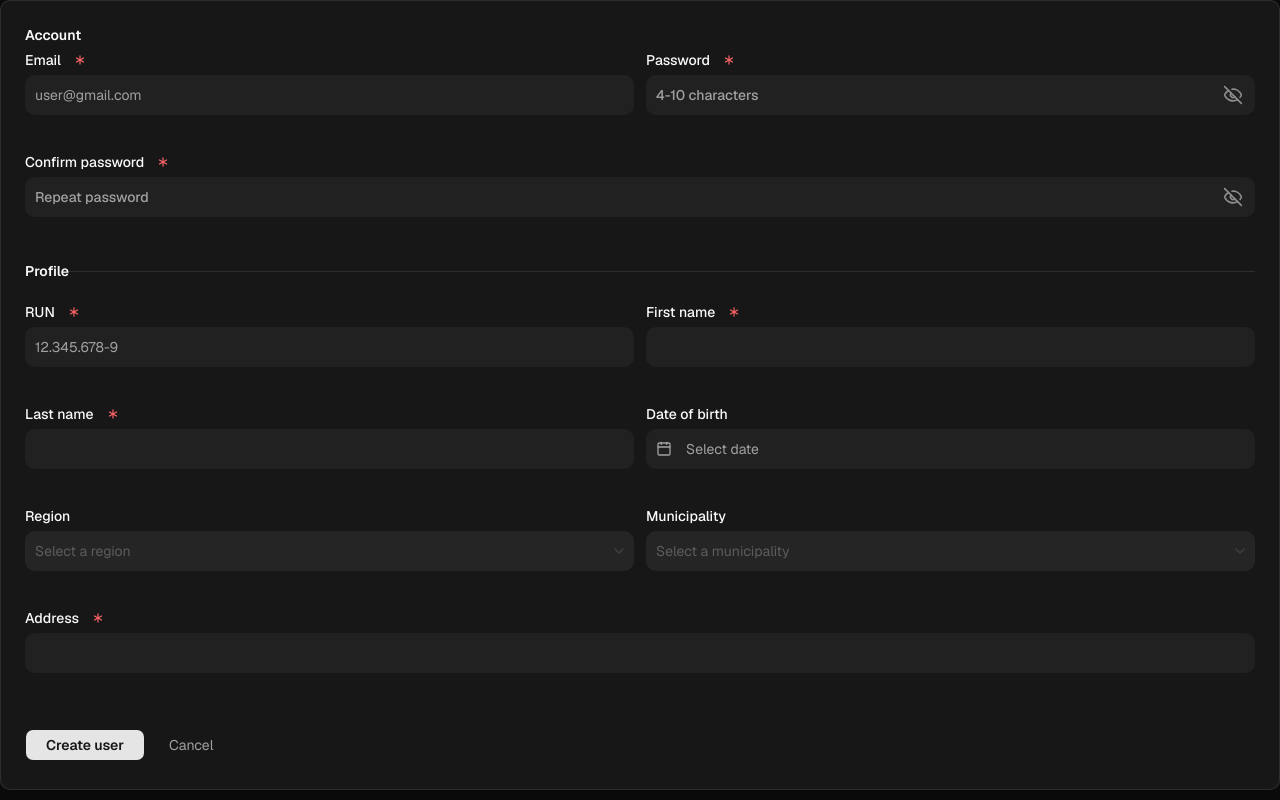
it: NewUserForm › el error de email aparece al enviar y desaparece al corregirlo
Type "not-an-email" into the field with placeholder "user@gmail.com" at {"x": 330, "y": 95}, box [25,75,634,115]
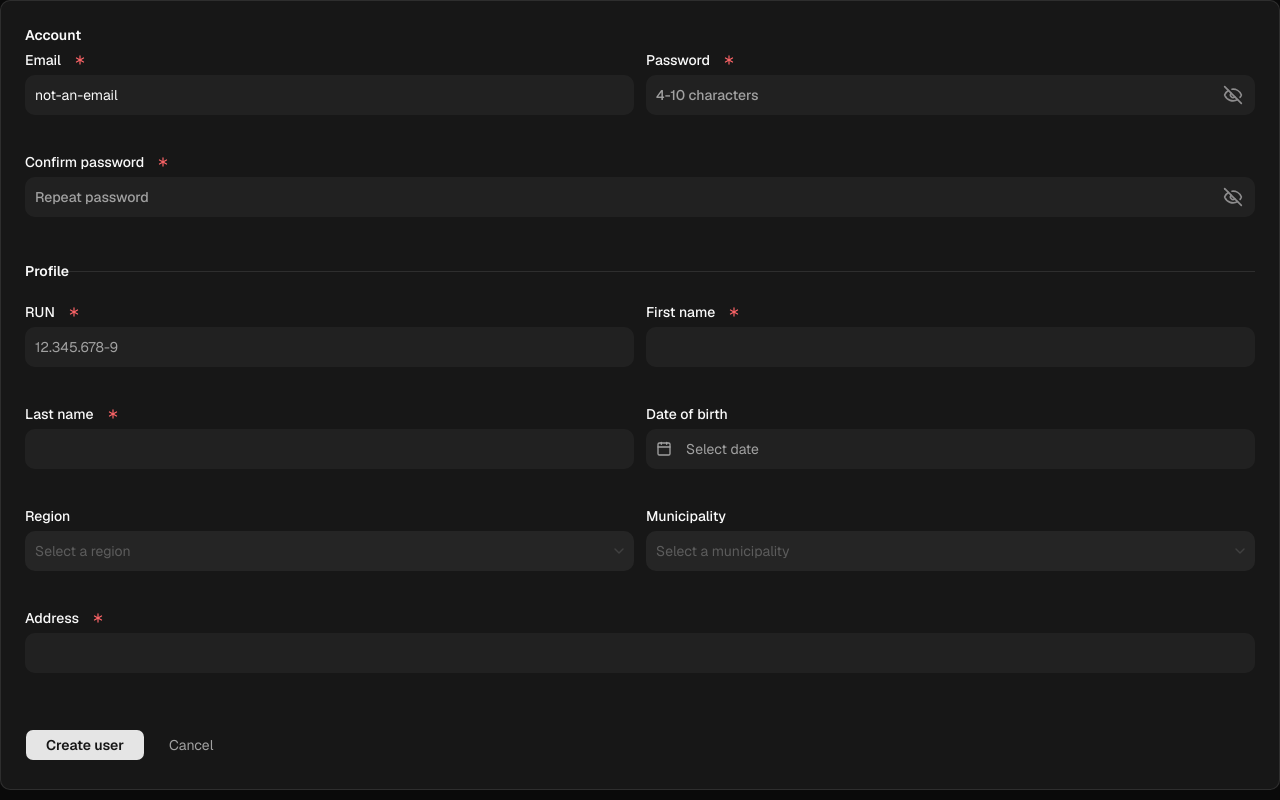
Click the button "Create user" at {"x": 85, "y": 745}, box [25,729,145,761]
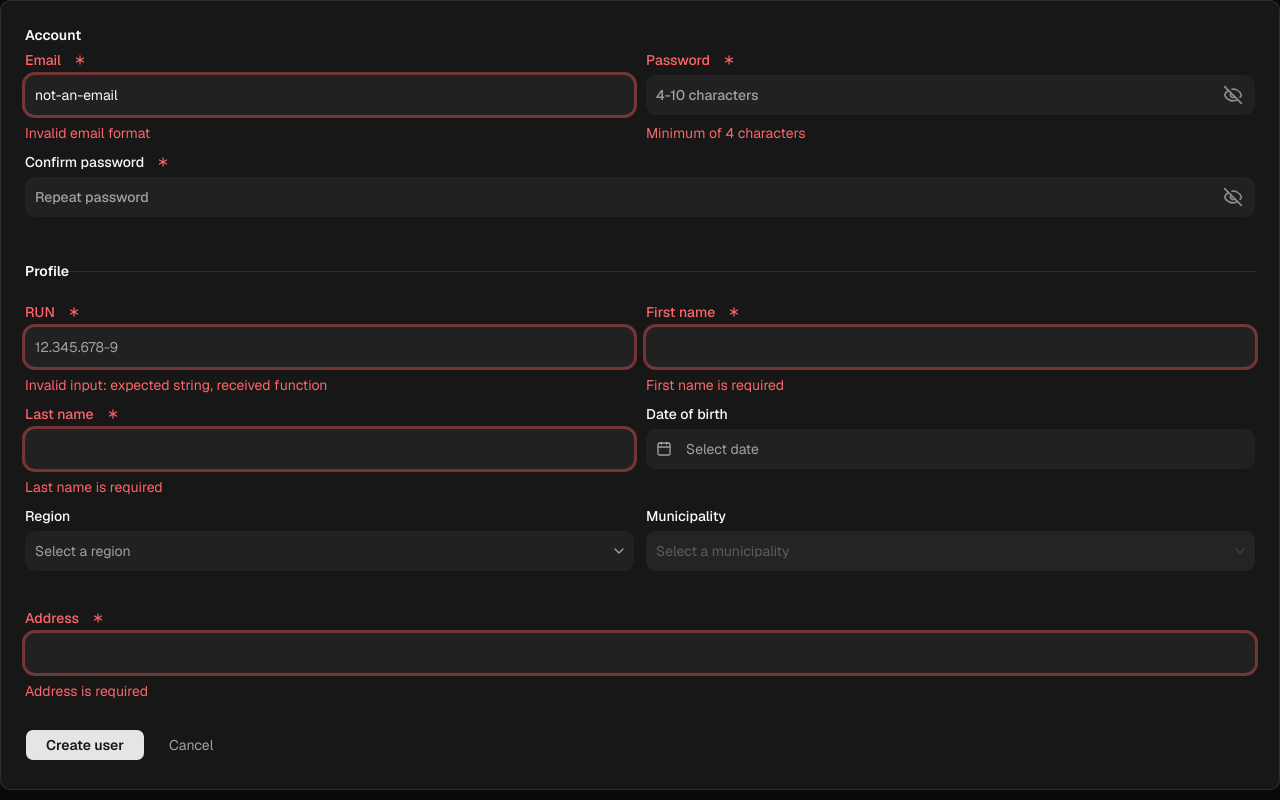
Expected: the text "Invalid email format" is shown, [25,124,150,142]
Replace the text in the field with placeholder "user@gmail.com" with "user@gmail.com" at {"x": 330, "y": 95}, box [25,75,634,115]
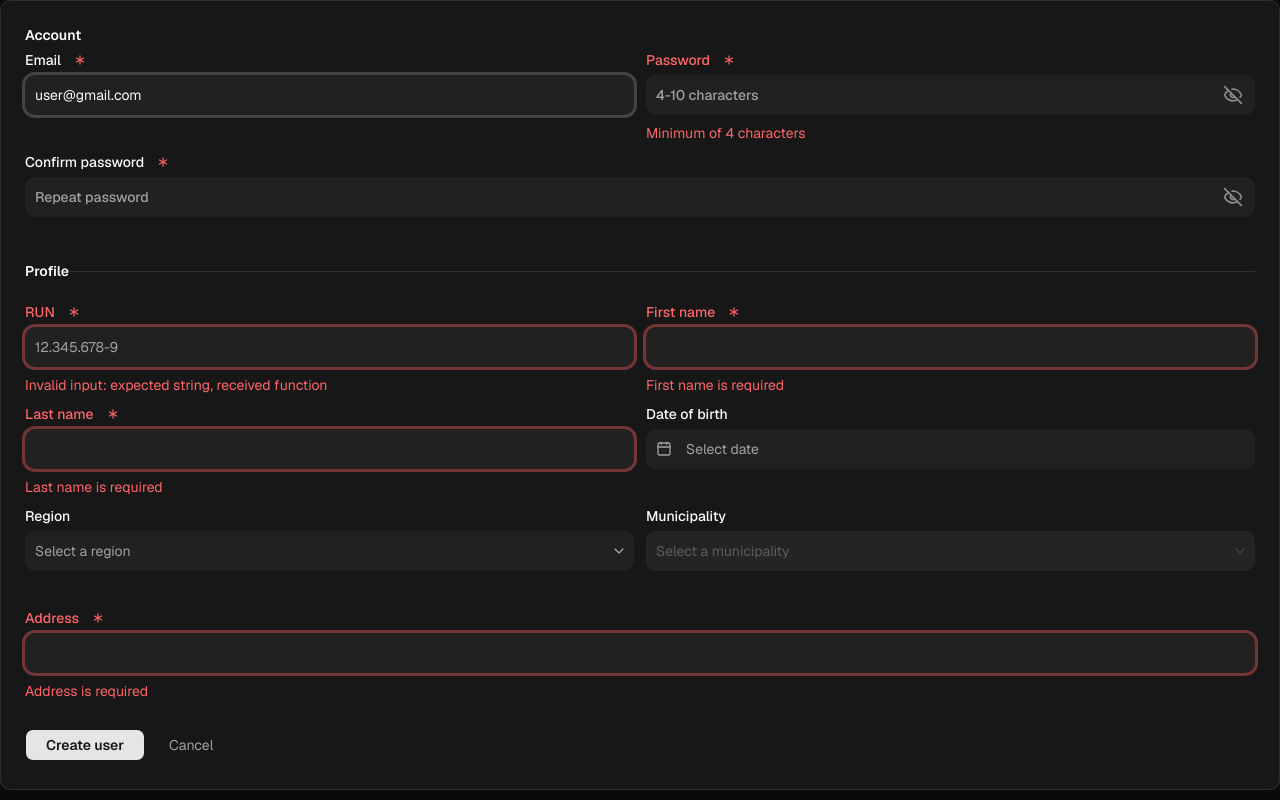
Expected: the text "Invalid email format" is gone
